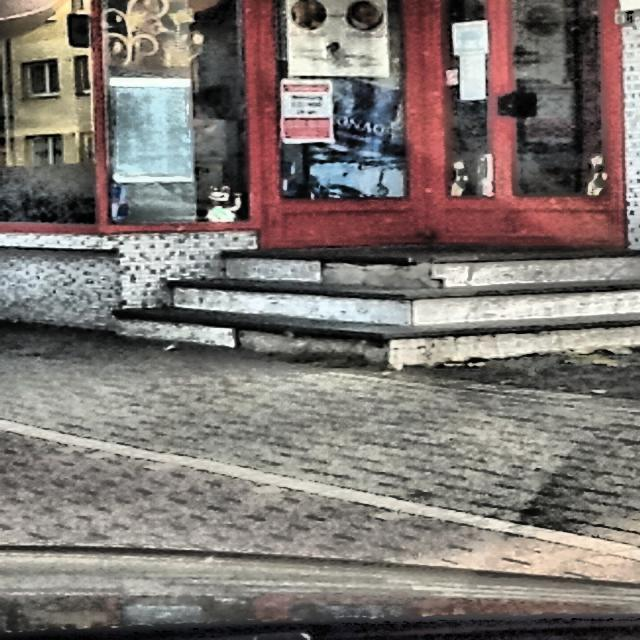escada: (95, 248, 640, 364)
